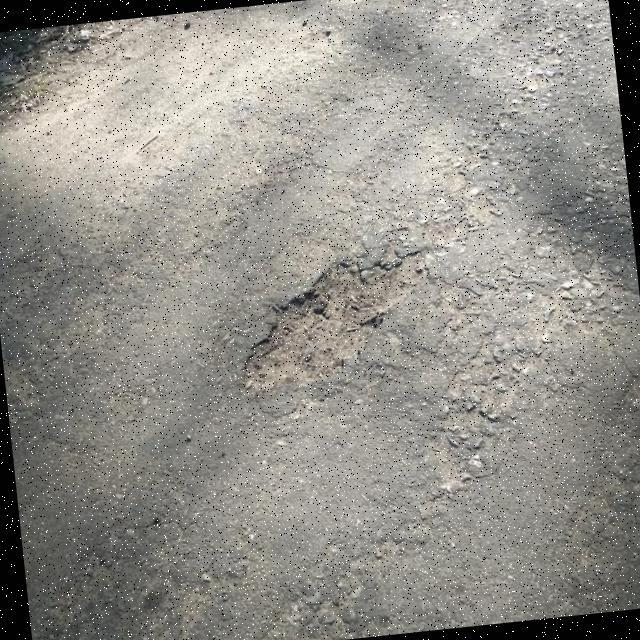Pothole: (242, 251, 427, 395)
